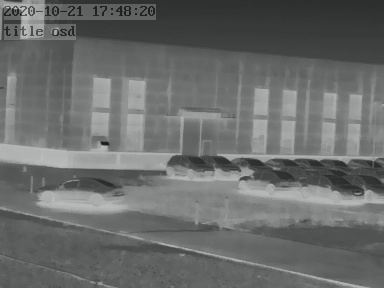vehicle: (39, 173, 121, 209), (298, 173, 364, 202), (238, 170, 301, 191), (165, 153, 213, 178), (349, 173, 382, 200), (205, 153, 242, 177), (233, 155, 270, 172), (347, 155, 381, 170), (262, 155, 296, 170), (317, 156, 348, 170), (295, 156, 325, 169)
